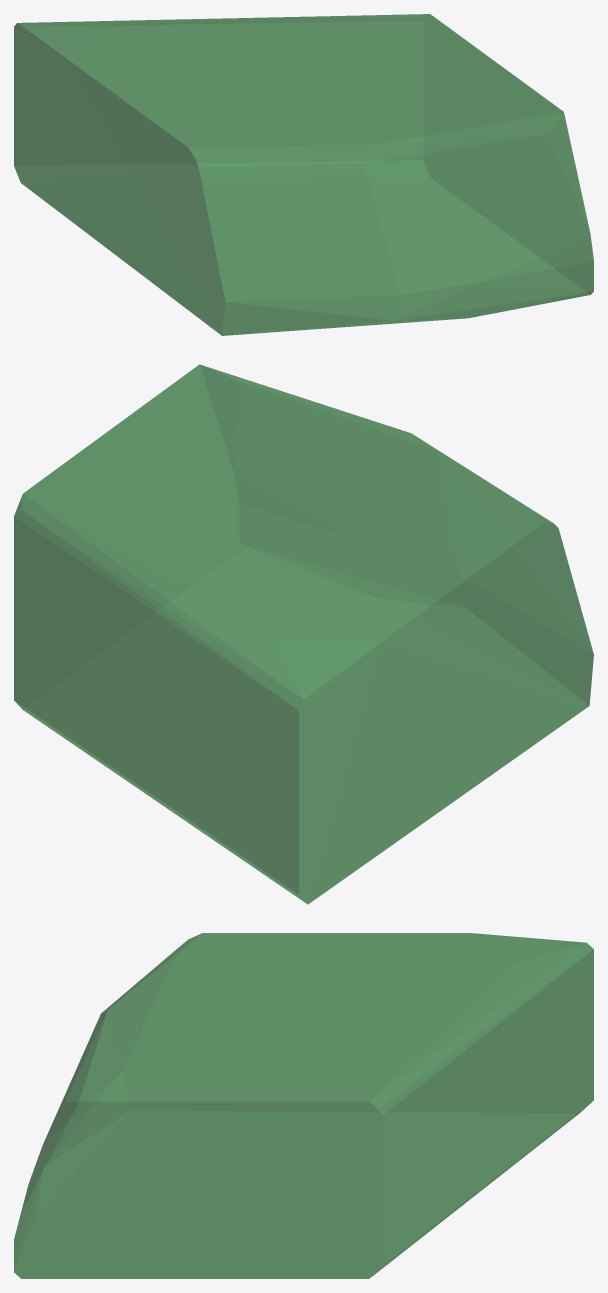
3 renders of one model, top to bottom at view 1: azimuth 30°, elevation 25°; view 2: azimuth 150°, elevation 25°; view 3: azimuth 270°, elevation 25°, orthographic. The views are drawn at different scales.
Visible parts, largest first — view 1: Shape_IndexedFaceSet.003_Shape_IndexedFaceSet.1225; view 2: Shape_IndexedFaceSet.003_Shape_IndexedFaceSet.1225; view 3: Shape_IndexedFaceSet.003_Shape_IndexedFaceSet.1225.
Part boxes in pixels (box(x1,y1,x2,y2)): Shape_IndexedFaceSet.003_Shape_IndexedFaceSet.1225: box(14, 14, 593, 335); Shape_IndexedFaceSet.003_Shape_IndexedFaceSet.1225: box(14, 364, 593, 904); Shape_IndexedFaceSet.003_Shape_IndexedFaceSet.1225: box(14, 933, 593, 1278).
Size of the model in its own units: 0.1095 by 0.0538 by 0.1593.
